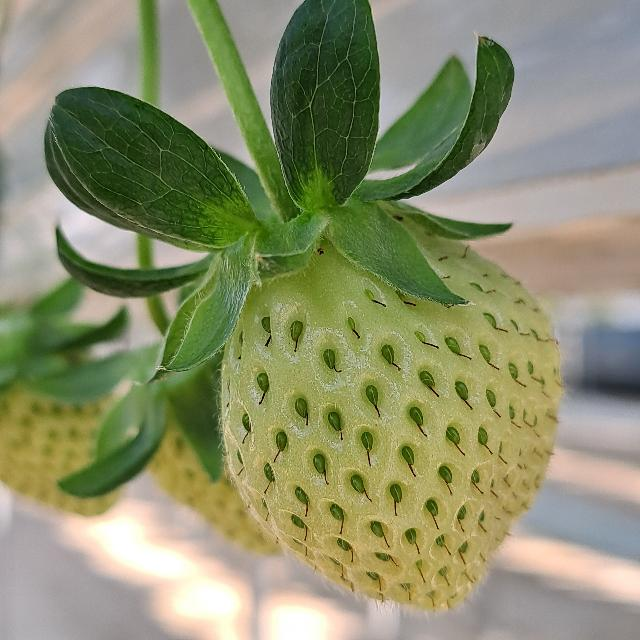Health_25: (221, 223, 561, 612)
